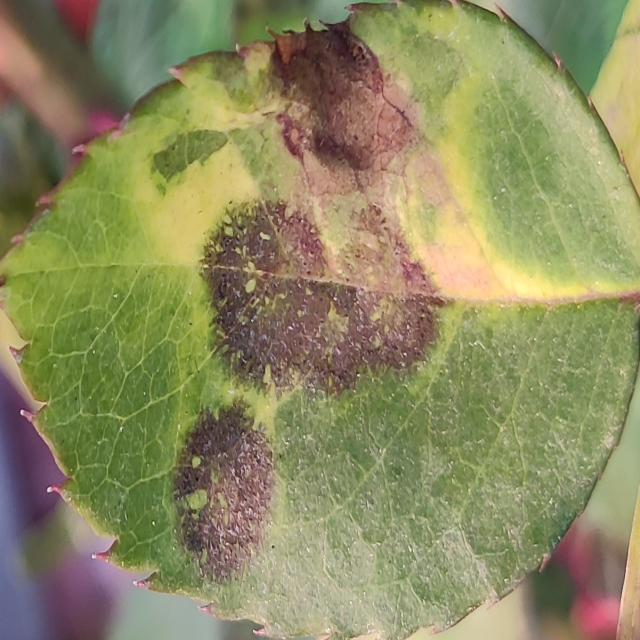Black_spot: (197, 194, 444, 395), (169, 398, 278, 585)
Rose: (0, 0, 639, 639)
